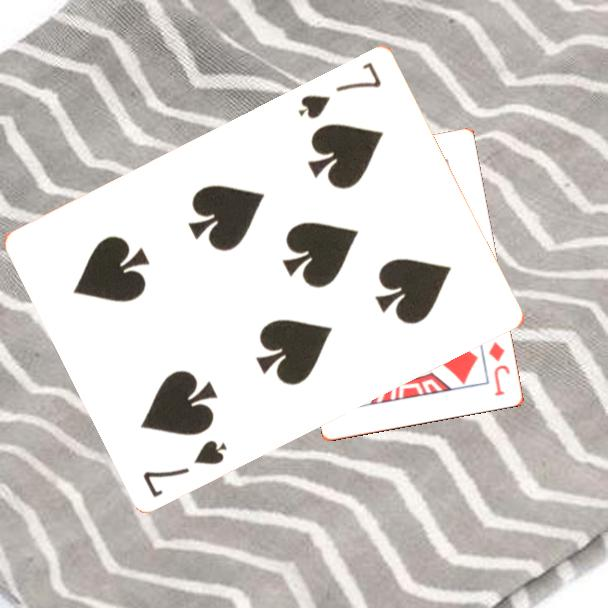d11: (485, 338, 513, 399)
s07: (139, 436, 231, 500), (294, 58, 385, 121)
